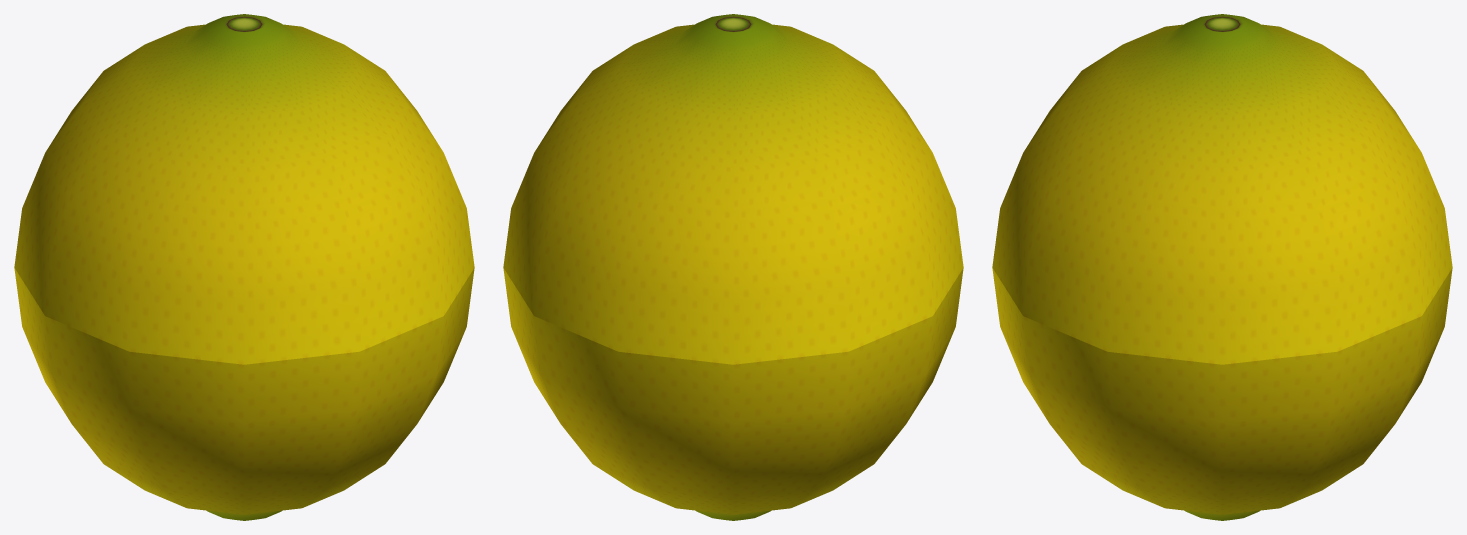
3 views of the same model, side by side, from view 1: azimuth 30°, elevation 25°; view 2: azimuth 150°, elevation 25°; view 3: azimuth 270°, elevation 25° (orthographic).
Parts seen in each view (by area): view 1: Lemon_Half_Top001, Lemon_Half_Bottom001; view 2: Lemon_Half_Top001, Lemon_Half_Bottom001; view 3: Lemon_Half_Top001, Lemon_Half_Bottom001.
Boxes of the visible parts, x1=… form: Lemon_Half_Top001: x1=14, y1=14, x2=474, y2=364; Lemon_Half_Bottom001: x1=14, y1=268, x2=474, y2=520; Lemon_Half_Top001: x1=503, y1=14, x2=963, y2=364; Lemon_Half_Bottom001: x1=503, y1=268, x2=963, y2=520; Lemon_Half_Top001: x1=992, y1=14, x2=1452, y2=364; Lemon_Half_Bottom001: x1=992, y1=268, x2=1452, y2=520.
Size of the model in its own units: 15.75 by 18.62 by 15.75.
Materials: 2 (2 with a texture image).
